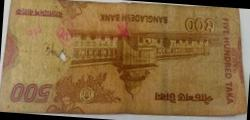500 taka: (11, 1, 244, 113)
